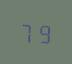nine: (35, 19, 50, 44)
seven: (19, 19, 34, 43)
